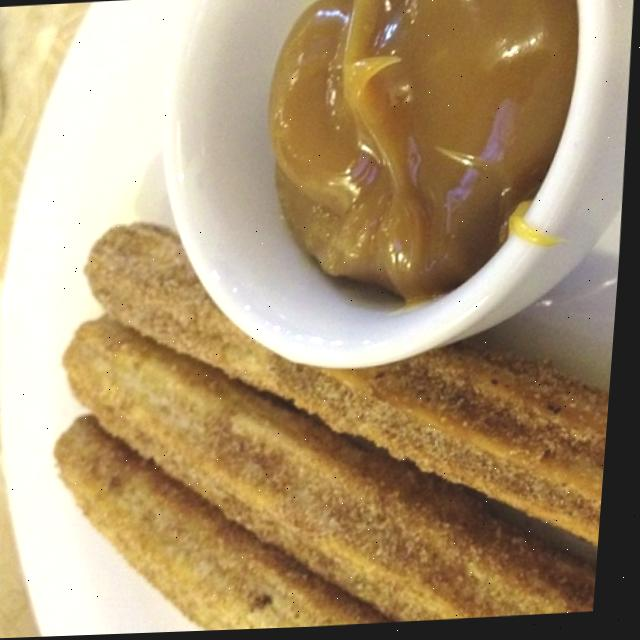炸货点心: (26, 183, 628, 638)
